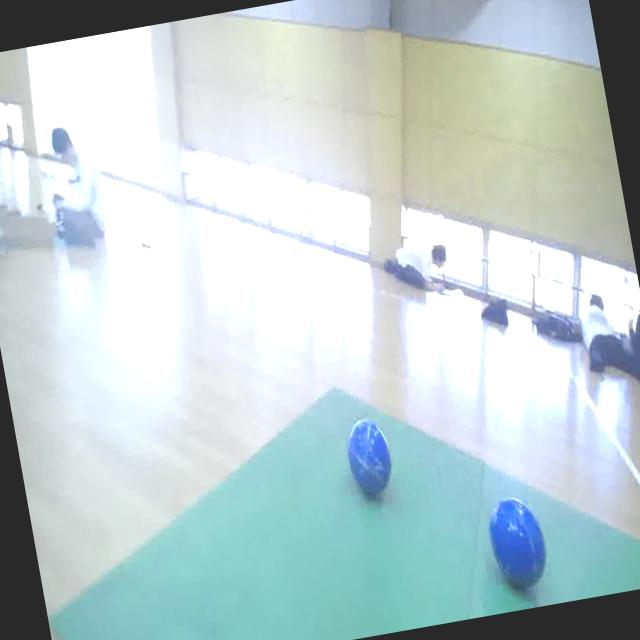blue_ball: (479, 489, 554, 594), (340, 411, 398, 506)
